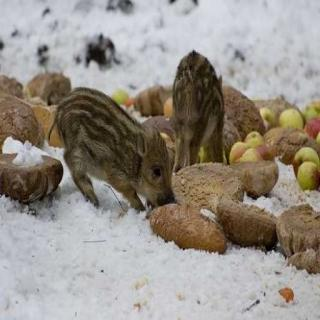Pig: (44, 64, 186, 224), (163, 17, 244, 183)
